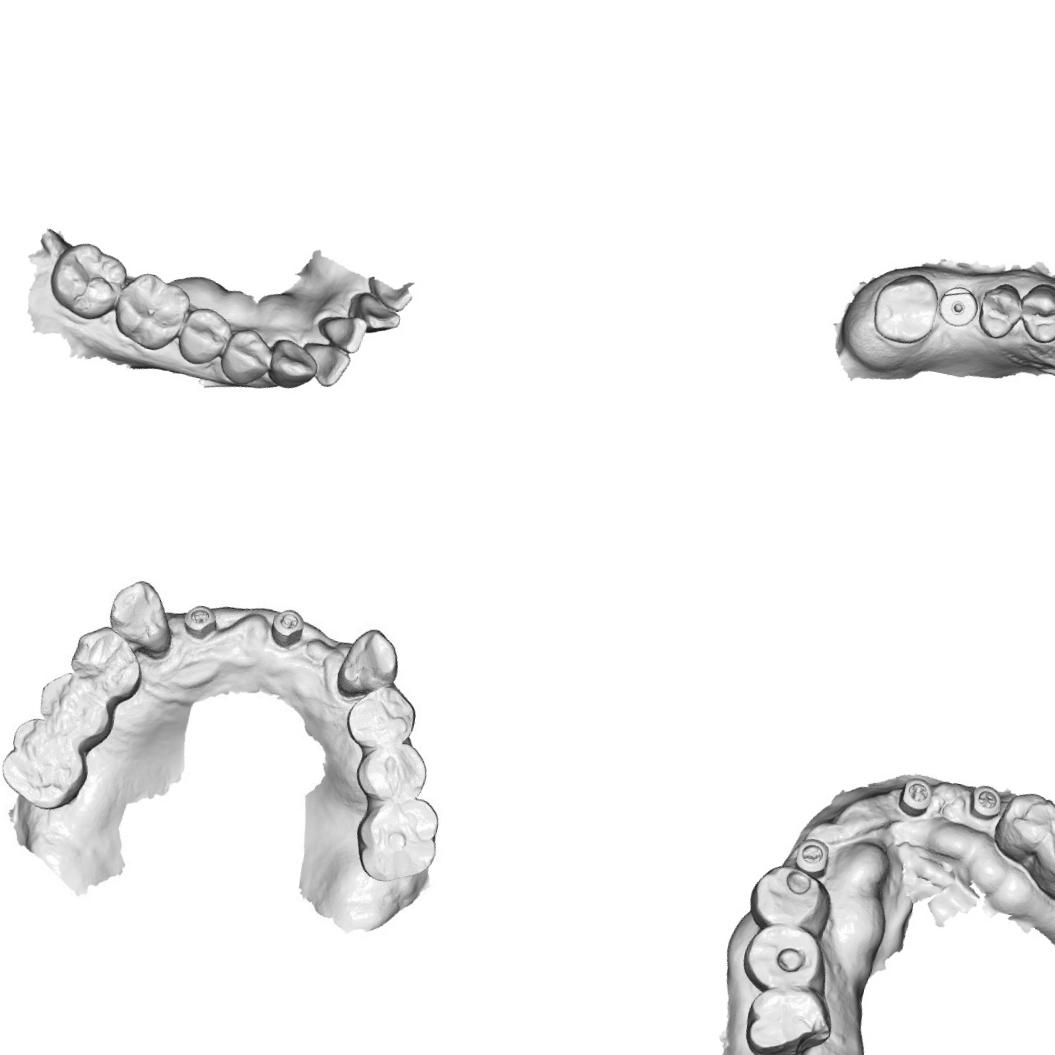canine: (104, 575, 178, 655), (332, 624, 402, 698), (262, 334, 322, 394)
implant: (263, 601, 310, 656), (934, 282, 980, 331), (790, 834, 833, 879), (894, 774, 936, 820), (176, 598, 217, 642), (964, 780, 1005, 824)
incisor: (294, 337, 354, 391), (344, 288, 401, 340), (312, 308, 368, 356)
molar: (42, 235, 133, 327), (0, 713, 93, 803), (108, 266, 195, 356), (735, 977, 835, 1055), (359, 794, 444, 878), (866, 265, 943, 349)
premolar: (736, 915, 835, 995), (745, 858, 836, 936), (33, 666, 114, 740), (65, 627, 147, 700), (990, 786, 1055, 867), (348, 684, 418, 752), (173, 302, 235, 371), (216, 324, 278, 390), (356, 743, 427, 799), (972, 278, 1028, 342), (1013, 278, 1055, 347), (1033, 810, 1055, 889)
